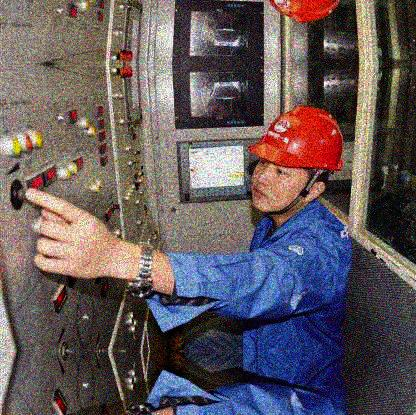helmet: (248, 102, 345, 212)
